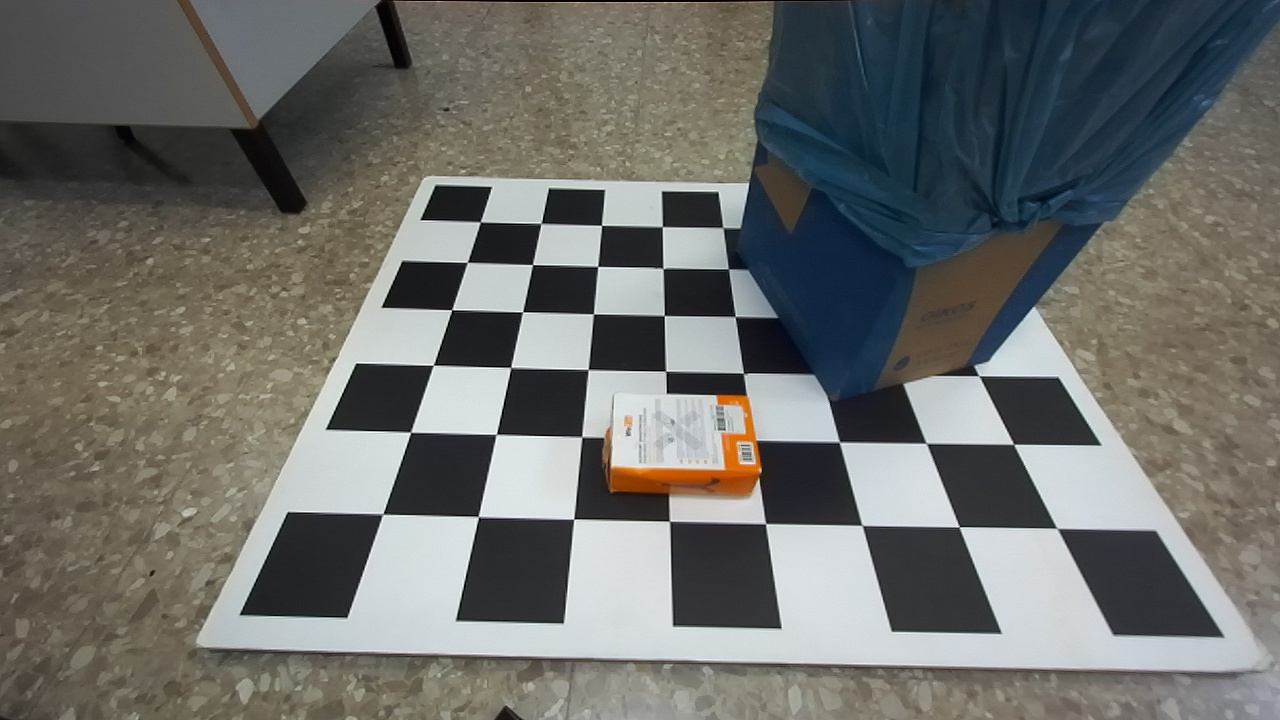caja_pcb: (602, 393, 760, 495)
